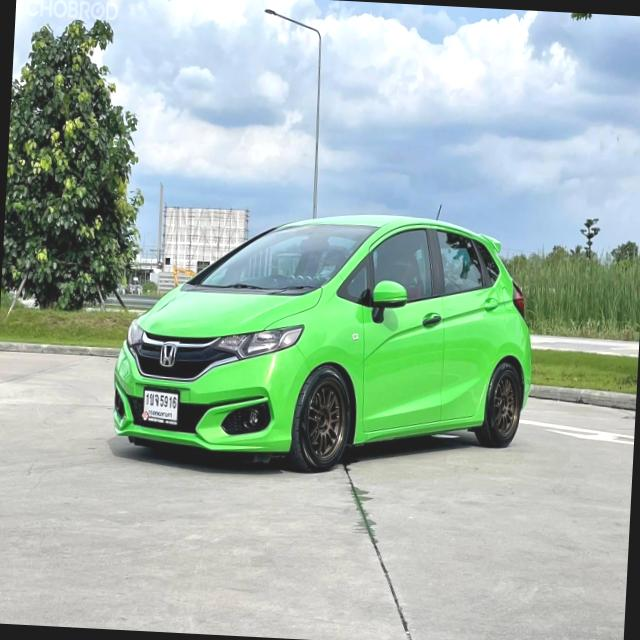license_plate: (140, 383, 187, 429)
